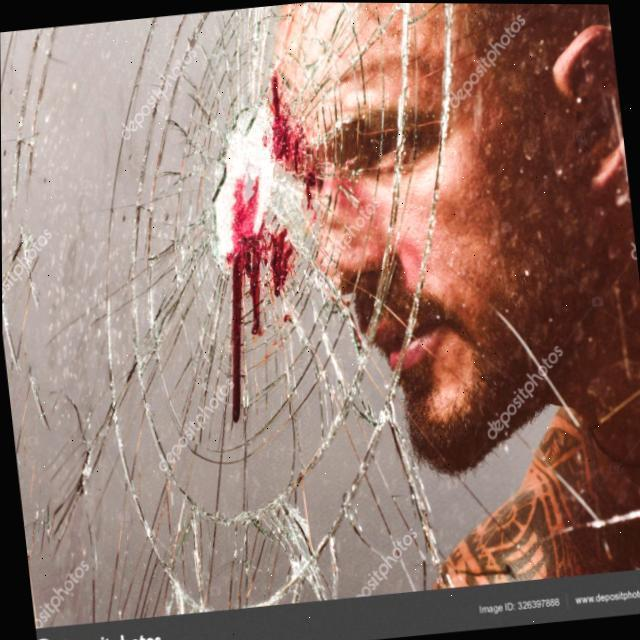knife: (224, 178, 294, 428), (270, 68, 312, 174), (304, 166, 318, 210)
